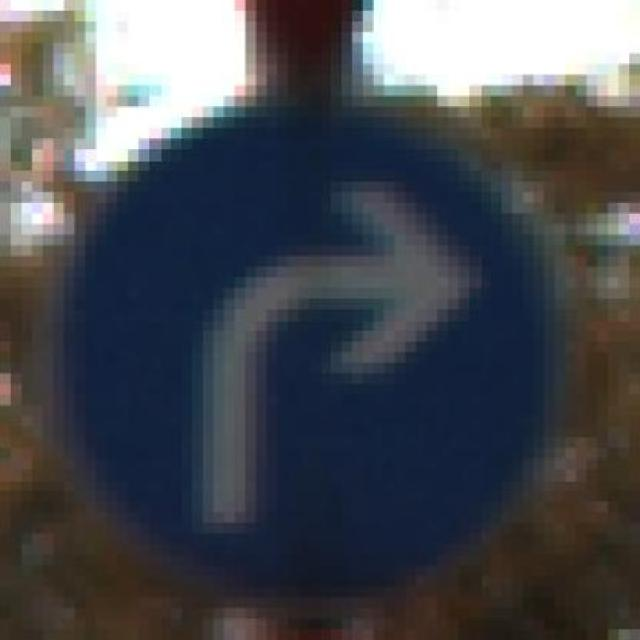Turn right ahead: (62, 75, 596, 588)
